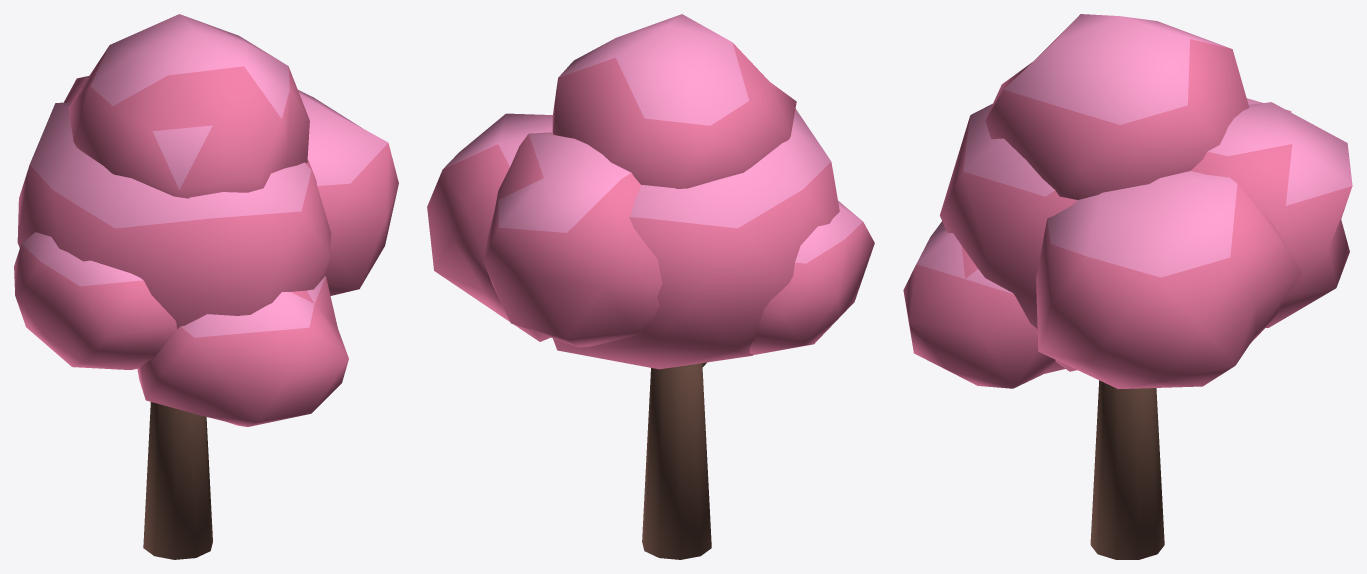
The model's file is TreeBlossom.glb.
3 renders of one model, left to right at view 1: azimuth 30°, elevation 25°; view 2: azimuth 150°, elevation 25°; view 3: azimuth 270°, elevation 25°, orthographic. The views are drawn at different scales.
Visible parts, largest first — view 1: TreeBlossom; view 2: TreeBlossom; view 3: TreeBlossom.
Part boxes in pixels (left/top/right/bottom): TreeBlossom: left=14, top=14, right=398, bottom=559; TreeBlossom: left=427, top=14, right=874, bottom=559; TreeBlossom: left=903, top=14, right=1352, bottom=559.
Bounding box in the file's own units: 6.12 × 7.96 × 6.05.
